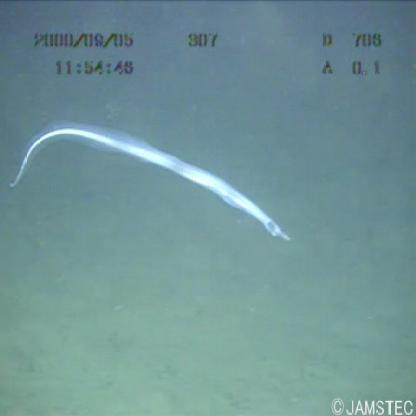Bio: (6, 118, 296, 248)
